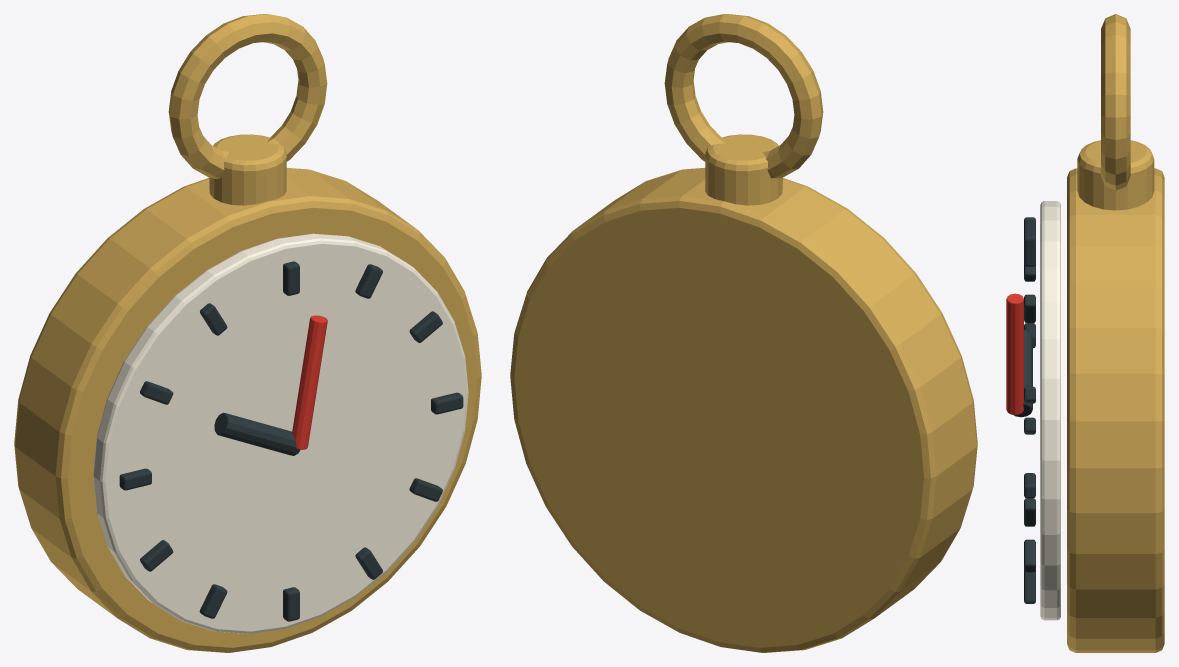
Rendered from P013_pocket_watch.glb.
3 views of the same model, side by side, from view 1: azimuth 30°, elevation 25°; view 2: azimuth 150°, elevation 25°; view 3: azimuth 270°, elevation 25° (orthographic).
Parts seen in each view (by area): view 1: P013_face_002, P013_body_001, P013_loop_003, P013_crown_004, P013_minute_hand_018, P013_hour_hand_017; view 2: P013_body_001, P013_loop_003, P013_crown_004; view 3: P013_body_001, P013_face_002, P013_loop_003, P013_crown_004, P013_minute_hand_018, P013_hour_hand_017, P013_hour_mark_005, P013_hour_mark_009, P013_hour_mark_010, P013_hour_mark_006, P013_hour_mark_012, P013_hour_mark_008.
Part boxes in pixels (x1,y1,x2,y2): P013_face_002: [93, 233, 468, 633]; P013_body_001: [14, 168, 481, 652]; P013_loop_003: [168, 14, 327, 178]; P013_crown_004: [209, 134, 286, 205]; P013_minute_hand_018: [292, 315, 327, 449]; P013_hour_hand_017: [214, 412, 300, 455]; P013_body_001: [510, 168, 977, 652]; P013_loop_003: [664, 14, 823, 178]; P013_crown_004: [705, 134, 782, 205]; P013_body_001: [1067, 168, 1164, 652]; P013_face_002: [1040, 201, 1060, 620]; P013_loop_003: [1101, 14, 1130, 190]; P013_crown_004: [1077, 140, 1154, 210]; P013_minute_hand_018: [1006, 293, 1023, 415]; P013_hour_hand_017: [1014, 330, 1032, 417]; P013_hour_mark_005: [1024, 233, 1035, 266]; P013_hour_mark_009: [1024, 539, 1035, 572]; P013_hour_mark_010: [1024, 572, 1035, 603]; P013_hour_mark_006: [1024, 294, 1035, 323]; P013_hour_mark_012: [1024, 498, 1035, 526]; P013_hour_mark_008: [1024, 473, 1035, 498].
Bounding box in the file's own units: 0.164 × 0.227 × 0.0535.
